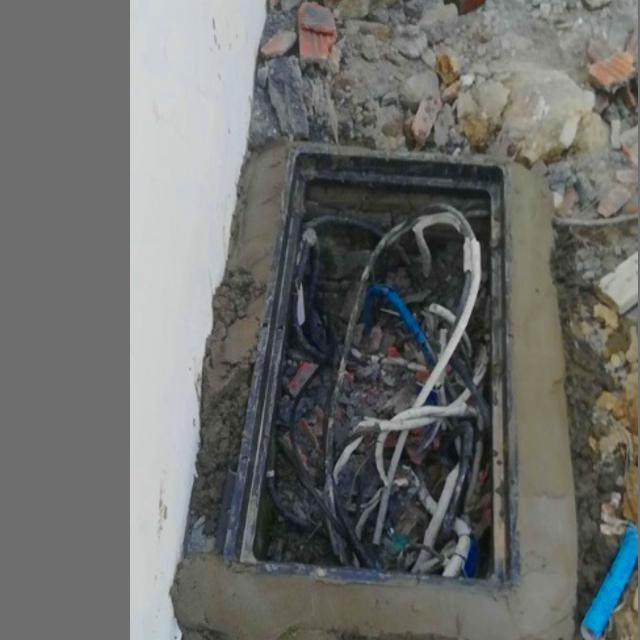lose: (217, 141, 522, 591)
